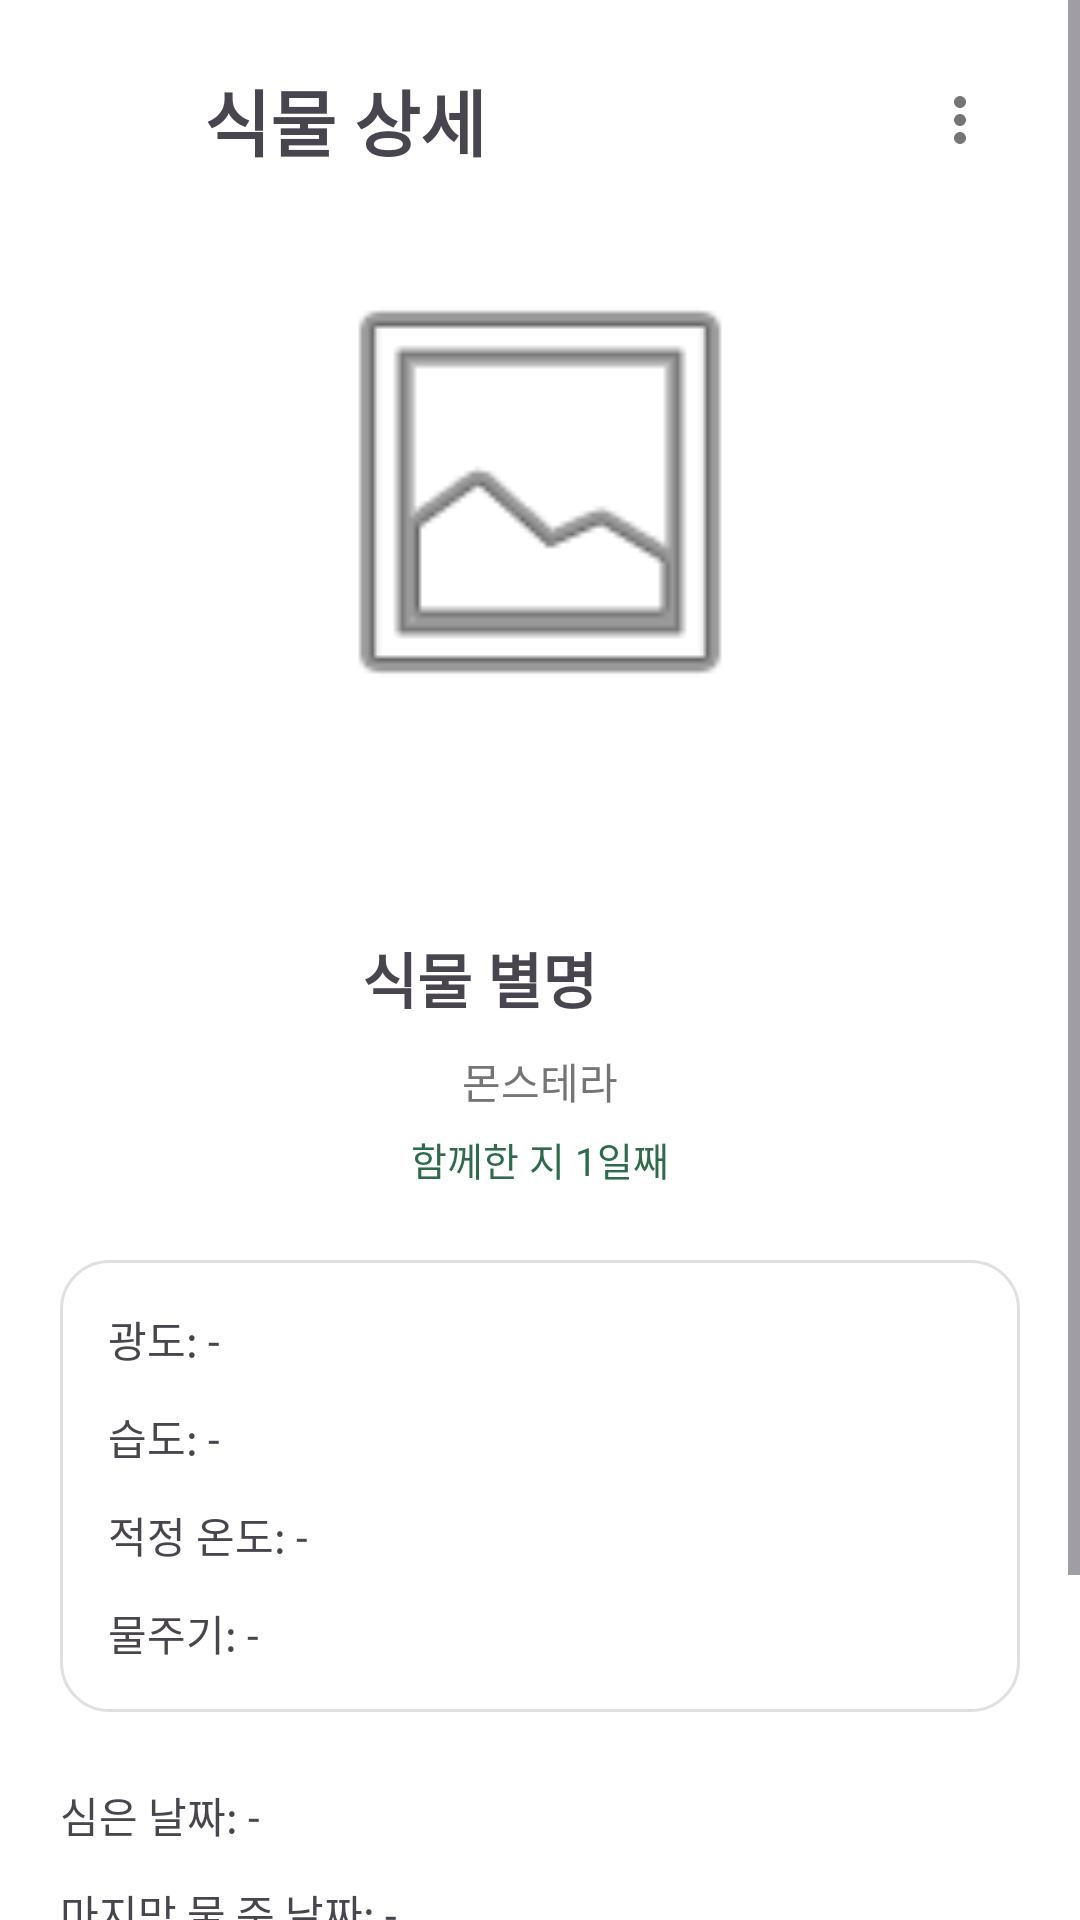

Named icons in this screenshot (1080px×1920px) and their bounding boxes, {"left": x1, "top": y1, "right": x2, "bottom": y2}:
더보기: {"left": 954, "top": 96, "right": 966, "bottom": 144}
